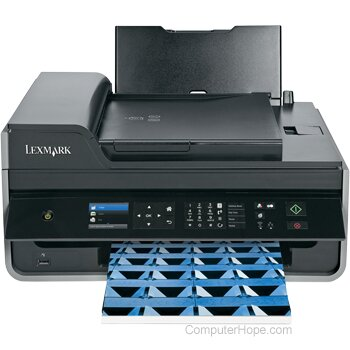printer: (2, 23, 350, 320)
